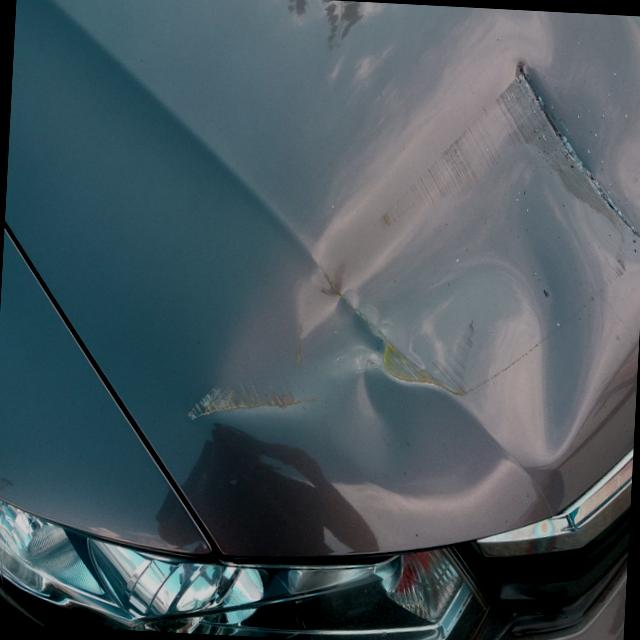Rayure: (364, 66, 534, 254), (460, 256, 627, 409), (178, 369, 319, 445)
